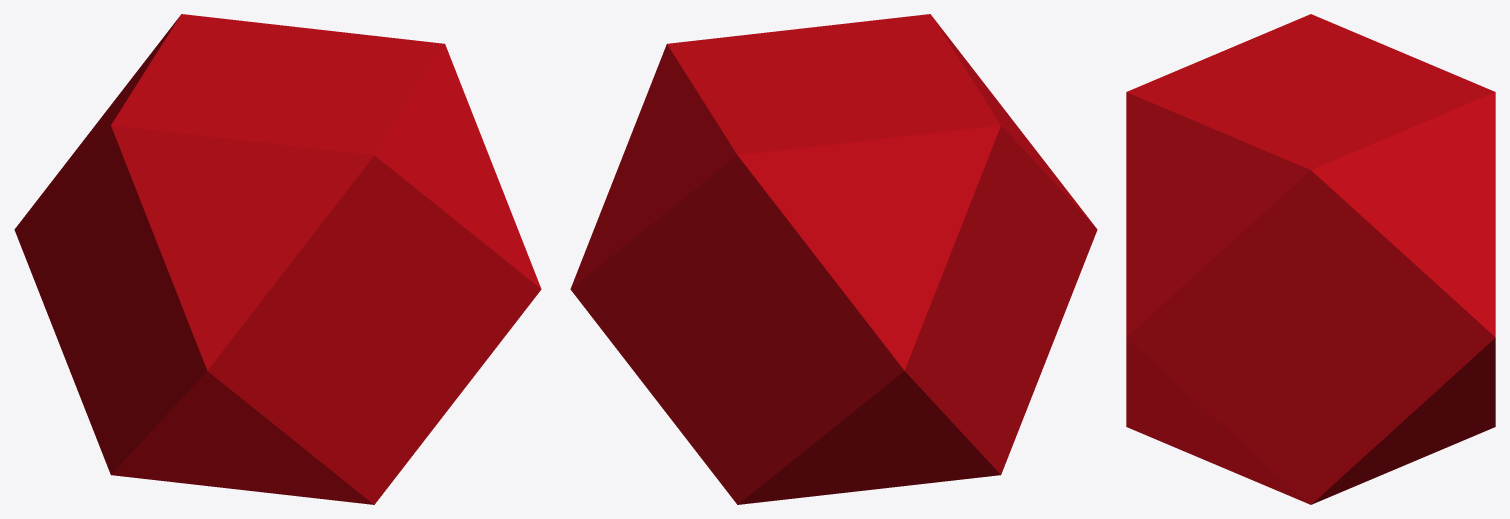
The model's file is CrystalRed.fbx.
The picture shows the model from 3 angles, left to right: view 1: azimuth 30°, elevation 25°; view 2: azimuth 150°, elevation 25°; view 3: azimuth 270°, elevation 25°; orthographic projection. The views are drawn at different scales.
Parts seen in each view (by area): view 1: Cube; view 2: Cube; view 3: Cube.
Part boxes in pixels (x1,y1,x2,y2): Cube: (14, 14, 541, 504); Cube: (570, 14, 1097, 504); Cube: (1126, 14, 1495, 504).
Bounding box in the file's own units: 200 × 200 × 200.
